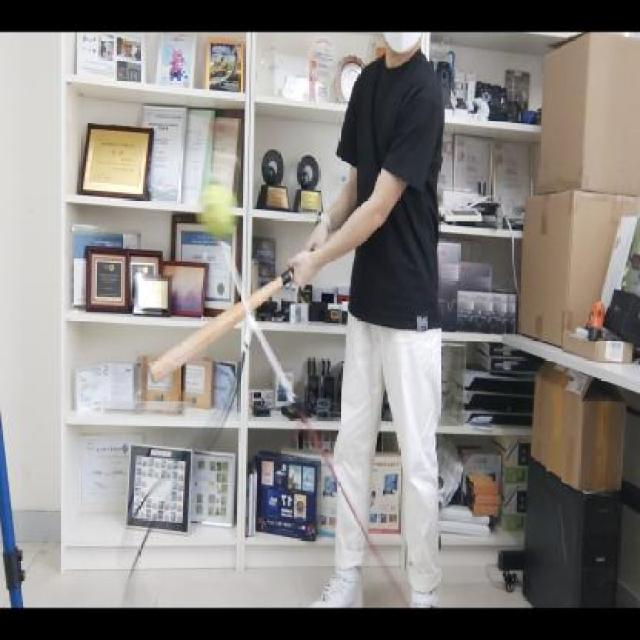baseball: (194, 173, 241, 239)
